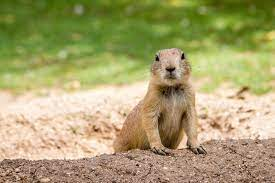gopher: (113, 49, 209, 156)
